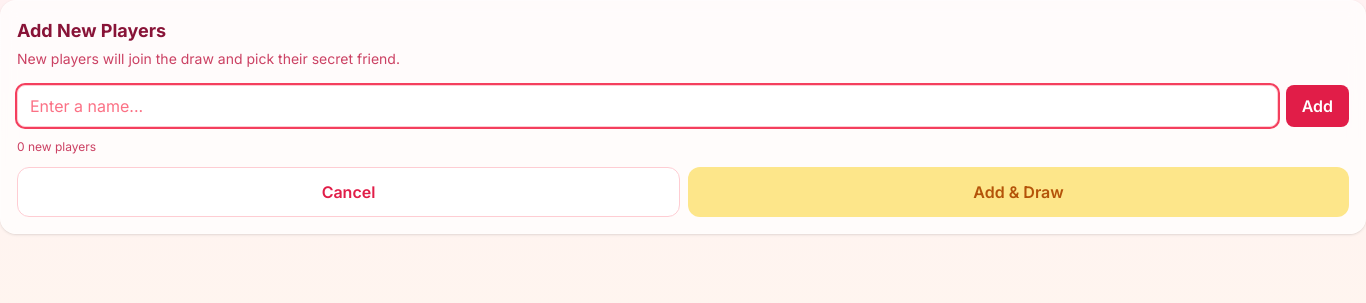
Test: AddPlayersForm › adds a new player name
This screenshot has width=1366, height=303.
Type "Carol" into the field labelled "Enter a name..." at coordinates (647, 106), box [17,85,1278,127]
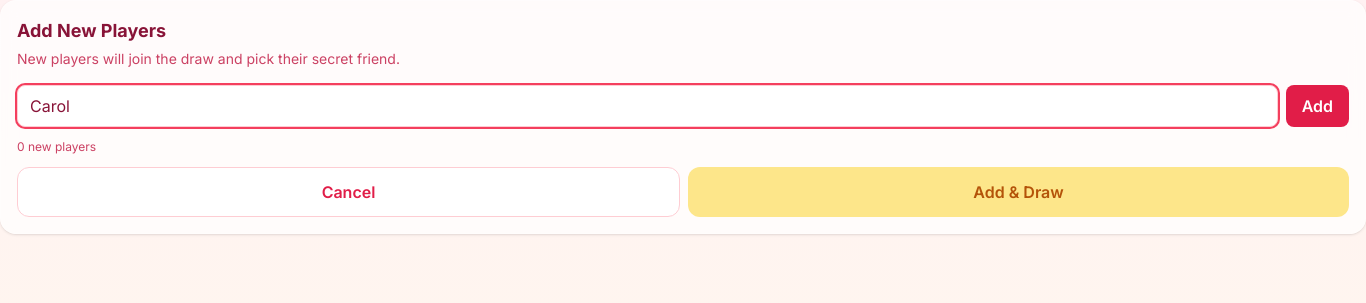
Click the button "Add" at coordinates (1317, 106), box [1286,85,1349,127]
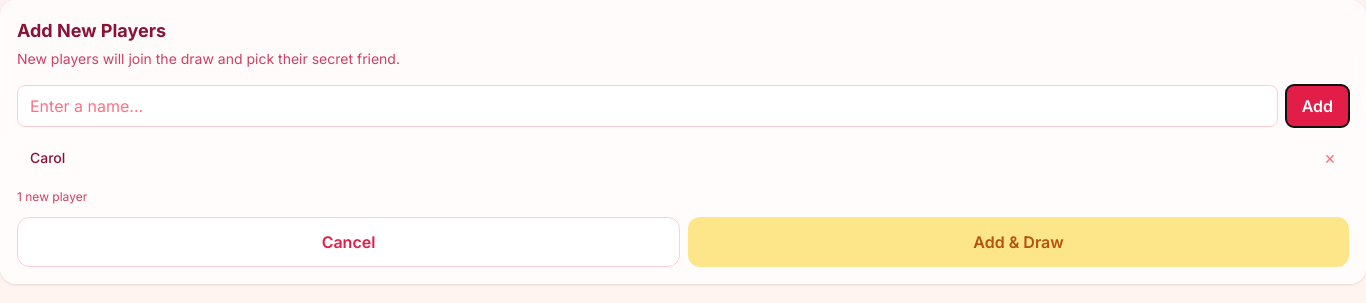
Check: the text "Carol" is shown, box [30,148,65,168]
